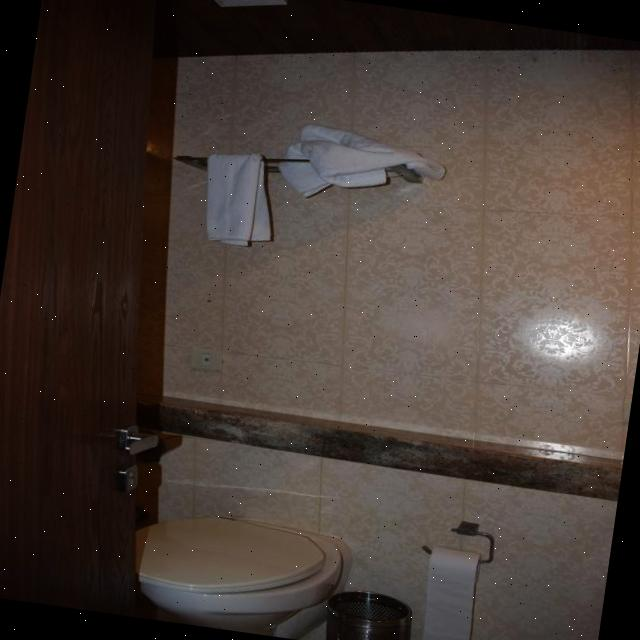disorganized_towel: (145, 102, 459, 279)
